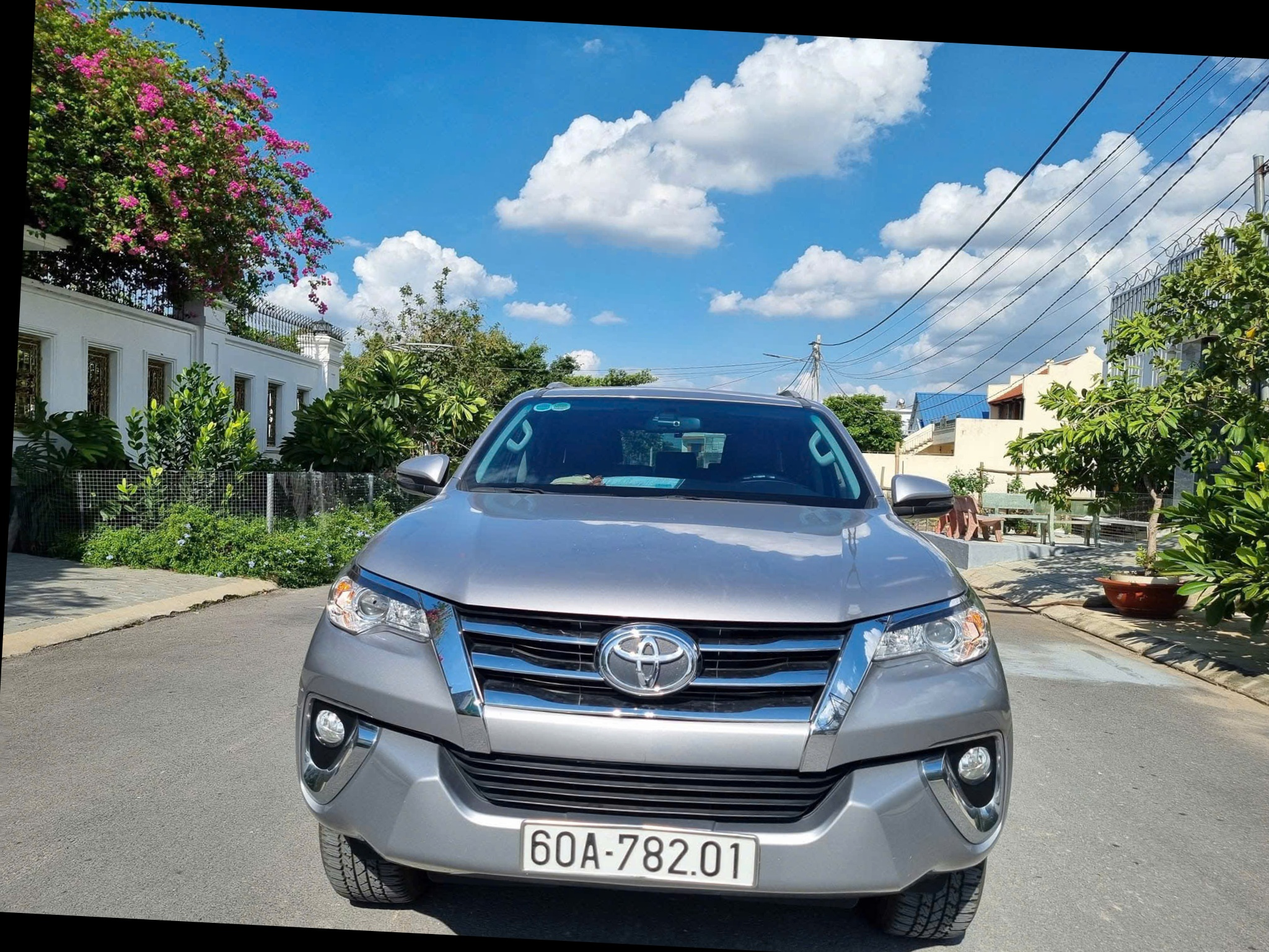Bien-so: (489, 803, 740, 871)
